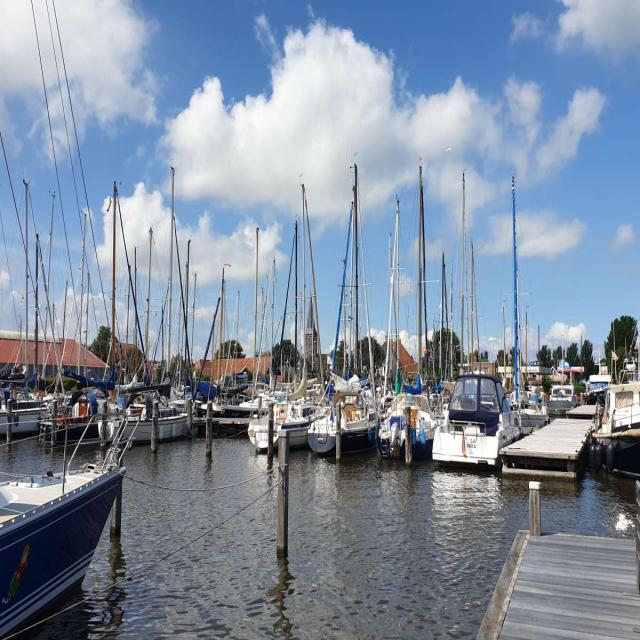fishing boat: (66, 336, 195, 442), (432, 312, 519, 452), (369, 326, 424, 448), (259, 330, 313, 441), (303, 349, 365, 444)
